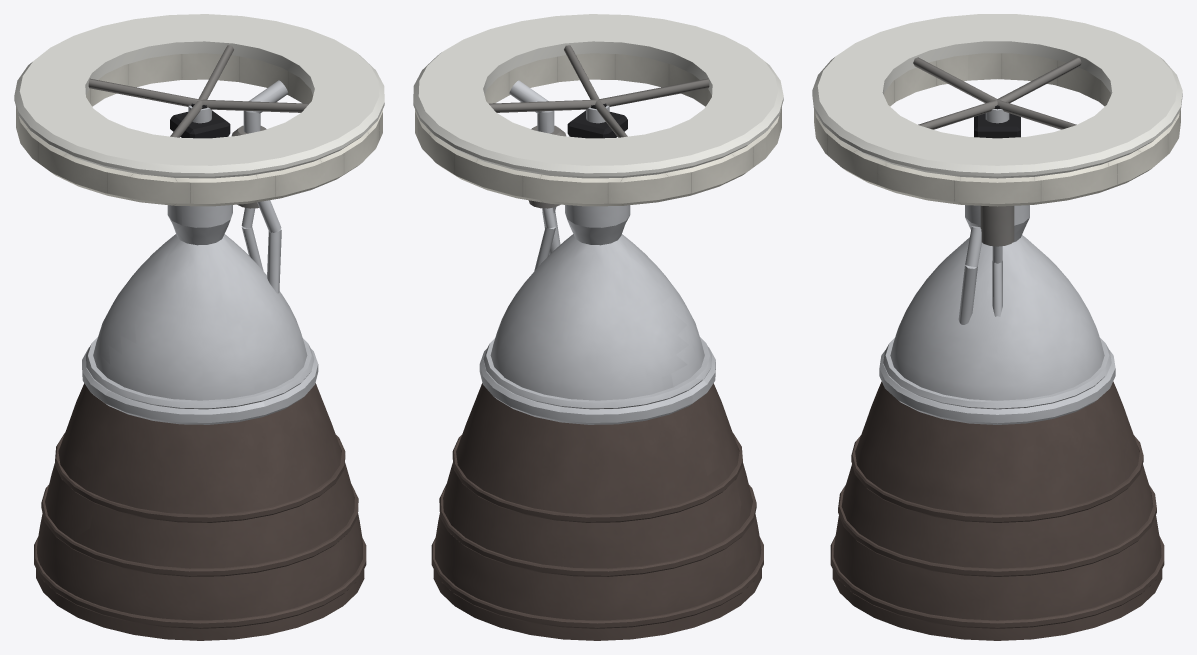
The model's file is ax_prop_06_kite_vac.glb.
3 views of the same model, side by side, from view 1: azimuth 30°, elevation 25°; view 2: azimuth 150°, elevation 25°; view 3: azimuth 270°, elevation 25° (orthographic).
Parts seen in each view (by area): view 1: nozzle_extension, mount_ring, regen_nozzle, thermal_blanket_ring, extension_hoops, joint_flange, thrust_struts, plumbing, regen_manifold, chamber, gimbal; view 2: nozzle_extension, mount_ring, regen_nozzle, thermal_blanket_ring, extension_hoops, joint_flange, thrust_struts, regen_manifold, chamber, plumbing, gimbal; view 3: nozzle_extension, mount_ring, regen_nozzle, thermal_blanket_ring, extension_hoops, joint_flange, thrust_struts, regen_manifold, plumbing, turbopumps, gimbal, chamber.
Boxes of the visible parts, <box> form: nozzle_extension: <box>36,383,364,640</box>; mount_ring: <box>14,14,384,178</box>; regen_nozzle: <box>93,234,307,400</box>; thermal_blanket_ring: <box>16,53,382,206</box>; extension_hoops: <box>34,433,366,628</box>; joint_flange: <box>82,347,318,424</box>; thrust_struts: <box>88,45,308,137</box>; plumbing: <box>241,80,288,293</box>; regen_manifold: <box>86,337,314,409</box>; chamber: <box>167,205,232,245</box>; gimbal: <box>170,103,230,138</box>; nozzle_extension: <box>433,383,761,640</box>; mount_ring: <box>413,14,783,178</box>; regen_nozzle: <box>490,234,704,400</box>; thermal_blanket_ring: <box>415,53,781,206</box>; extension_hoops: <box>431,433,763,628</box>; joint_flange: <box>479,347,715,424</box>; thrust_struts: <box>489,45,709,137</box>; regen_manifold: <box>483,337,711,409</box>; chamber: <box>565,205,630,245</box>; plumbing: <box>509,80,560,270</box>; gimbal: <box>567,103,627,138</box>; nozzle_extension: <box>832,381,1162,640</box>; mount_ring: <box>812,14,1182,178</box>; regen_nozzle: <box>890,235,1104,400</box>; thermal_blanket_ring: <box>814,53,1180,206</box>; extension_hoops: <box>830,435,1164,628</box>; joint_flange: <box>879,350,1115,424</box>; thrust_struts: <box>913,57,1081,129</box>; regen_manifold: <box>883,338,1111,409</box>; plumbing: <box>958,226,1002,324</box>; turbopumps: <box>980,206,1014,246</box>; gimbal: <box>974,105,1020,138</box>; chamber: <box>965,205,1029,242</box>.
Bounding box in the file's own units: 1.25 × 1.79 × 1.25.
6 materials, 4 textured.
